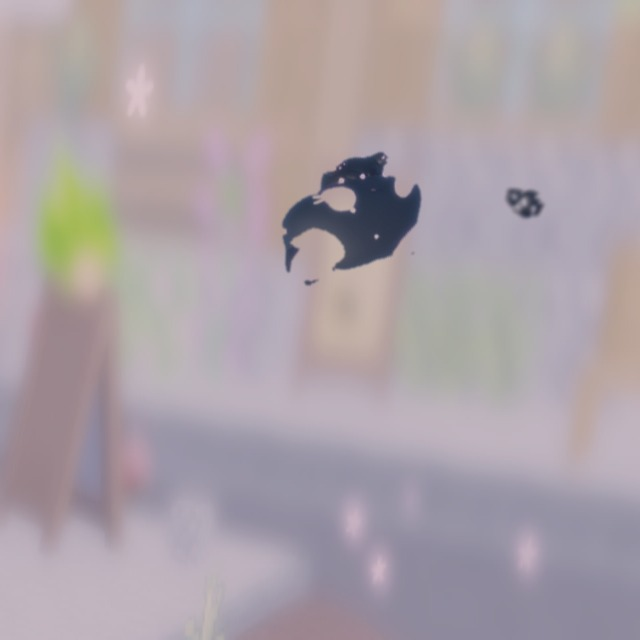urso_preto: (229, 114, 471, 325), (497, 178, 548, 224)
